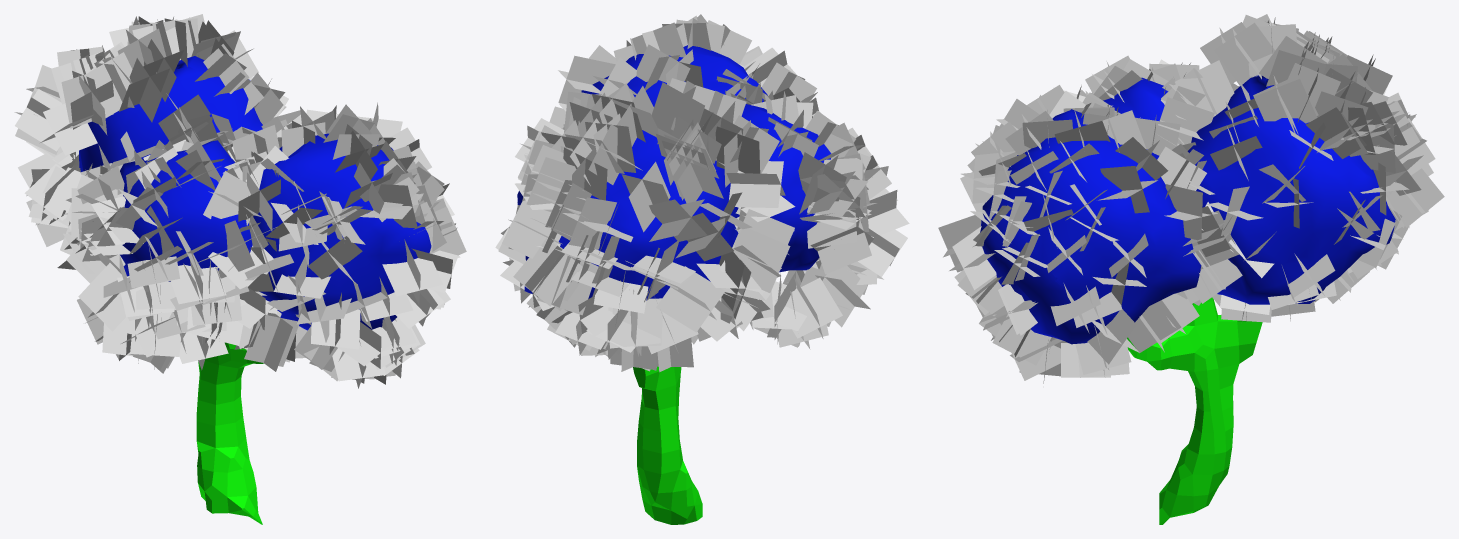
The model's file is tree_1_lowpolly.fbx.
The picture shows the model from 3 angles, left to right: view 1: azimuth 30°, elevation 25°; view 2: azimuth 150°, elevation 25°; view 3: azimuth 270°, elevation 25°; orthographic projection. The views are drawn at different scales.
Parts seen in each view (by area): view 1: Plane, Cylinder; view 2: Plane, Cylinder; view 3: Plane, Cylinder.
Boxes of the visible parts, left/top/right/bottom form: Plane: left=14, top=14, right=466, bottom=388; Cylinder: left=79, top=56, right=431, bottom=524; Plane: left=495, top=14, right=909, bottom=372; Cylinder: left=517, top=45, right=831, bottom=524; Plane: left=938, top=14, right=1444, bottom=383; Cylinder: left=980, top=75, right=1395, bottom=524.
Size of the model in its own units: 212 by 269 by 262.
